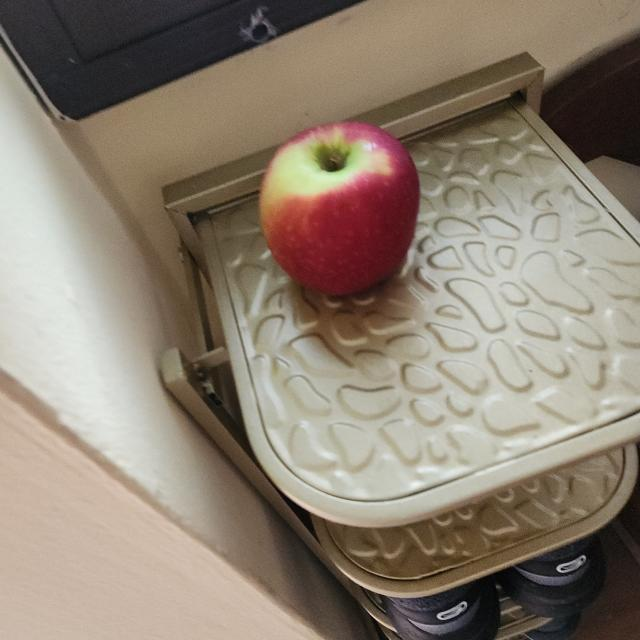apple: (252, 118, 420, 306)
